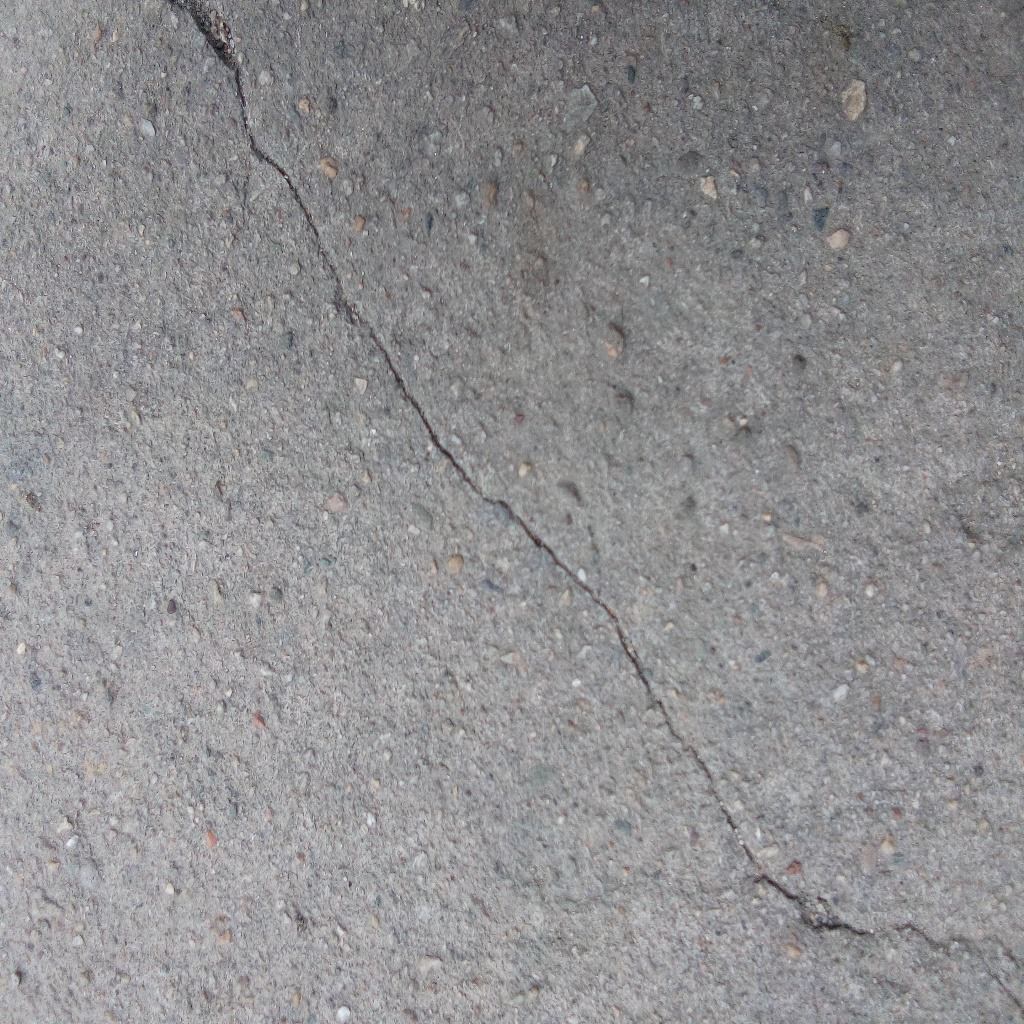Crack: (167, 1, 1024, 1000)
